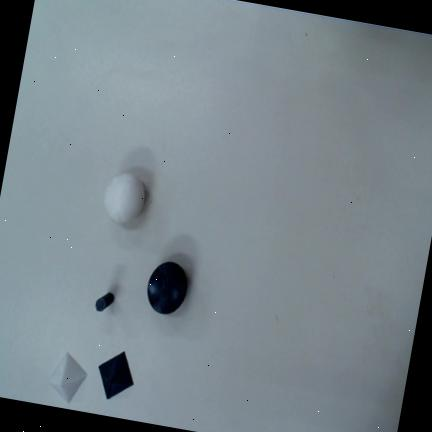Cilindro: (95, 292, 114, 312)
Esfera: (147, 262, 187, 315), (104, 174, 145, 224)
Piramide: (49, 353, 88, 404), (98, 351, 134, 400)
